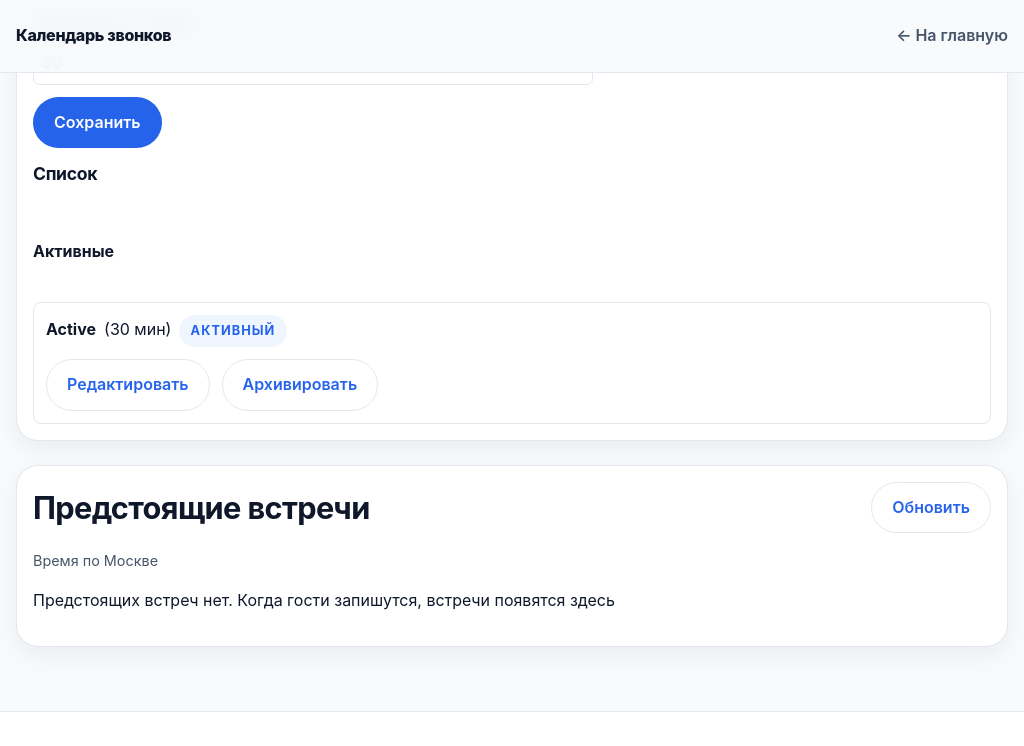
Test: AdminPage › archives a meeting type and announces the result
(page scrolled)
expect the text "Active" is shown: met, box left=46, top=317, right=96, bottom=342
Click the button "Архивировать".
click(300, 385)  # box left=222, top=359, right=378, bottom=411
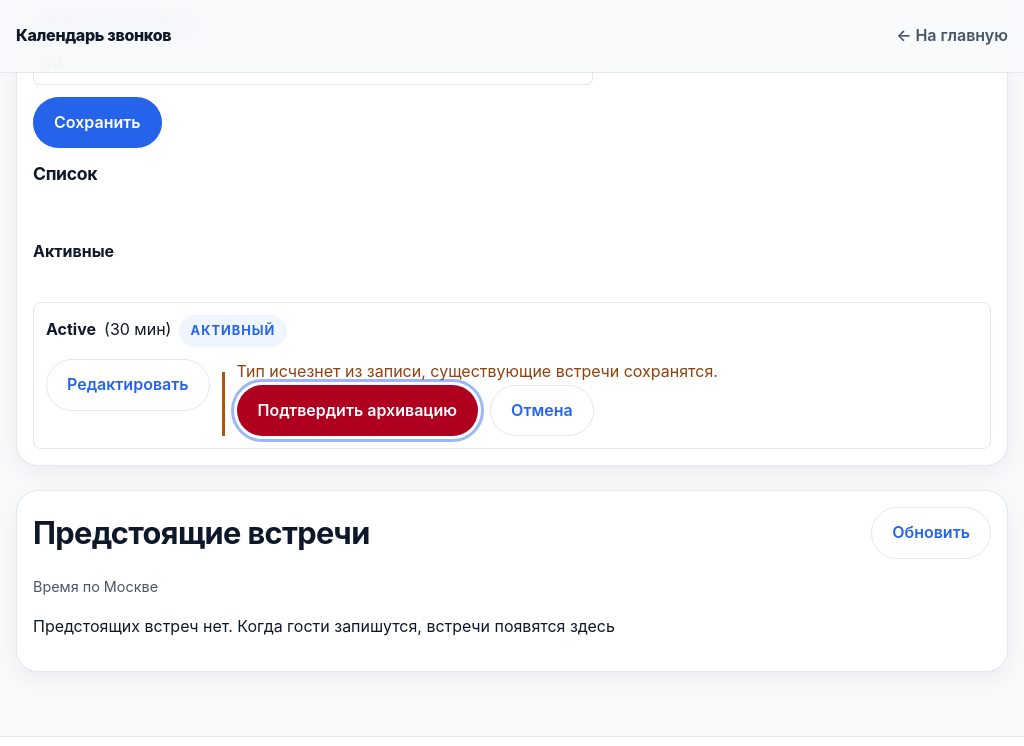
Click the button "Подтвердить архивацию".
click(357, 410)  # box left=237, top=385, right=478, bottom=436
(page scrolled)
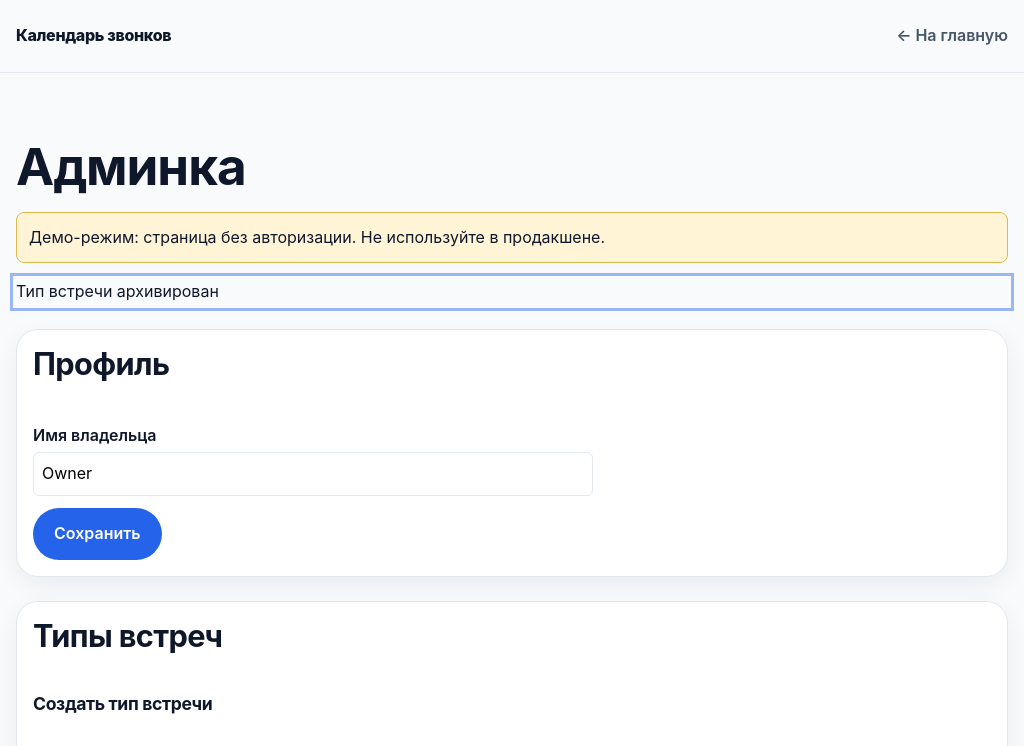
expect the text "Тип встречи архивирован" is shown: met, box left=16, top=282, right=219, bottom=302
